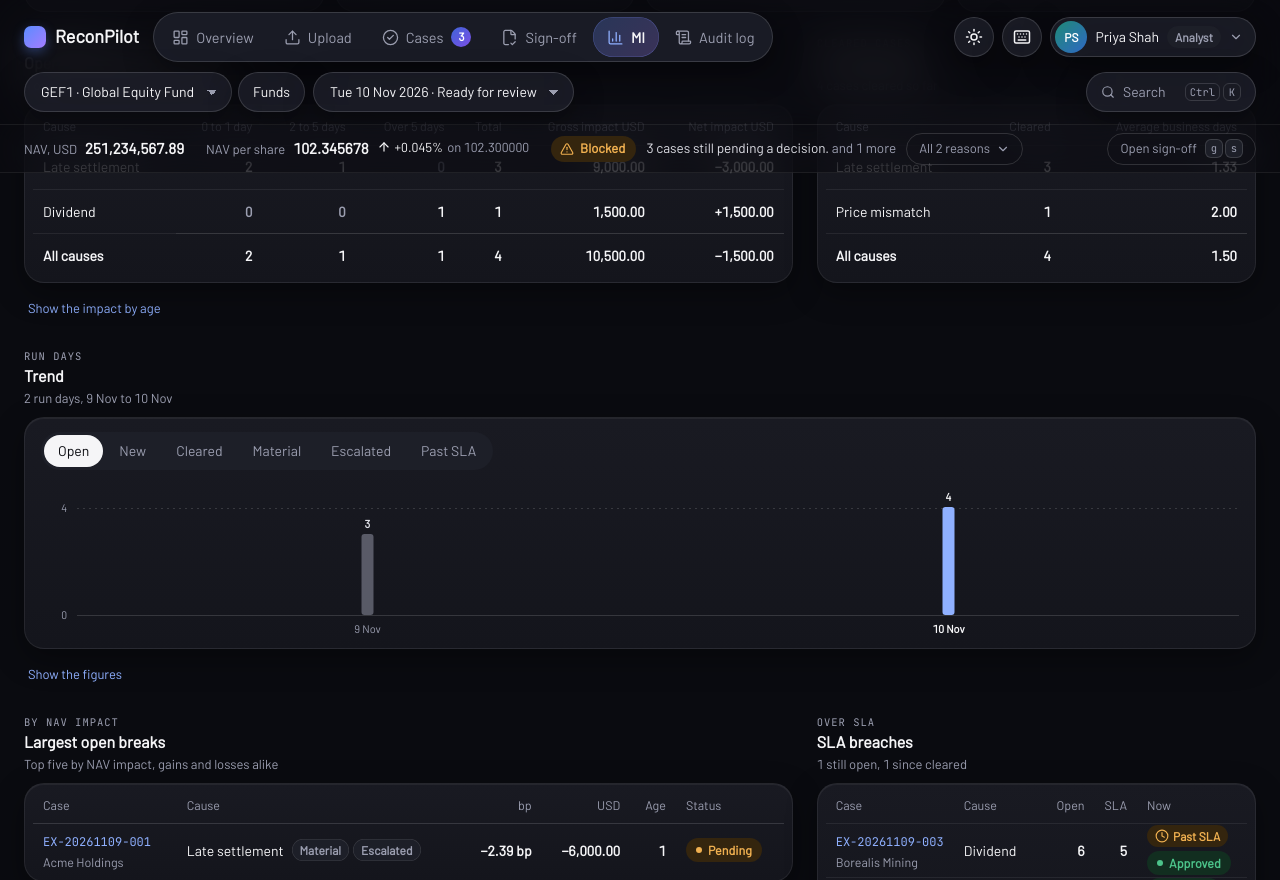
Scenario: MiScreen › switches the trend between measures, keeping every figure behind an expander
(page scrolled)
Expected: the text "2 run days, 9 Nov to 10 Nov" is shown, 24,390 -> 172,406
Expected: the picture named "Open cases per run day, 9 Nov to 10 Nov" is shown, 41,484 -> 1239,638
Click the button "Cleared" at (199, 450), box 162,434 -> 237,466
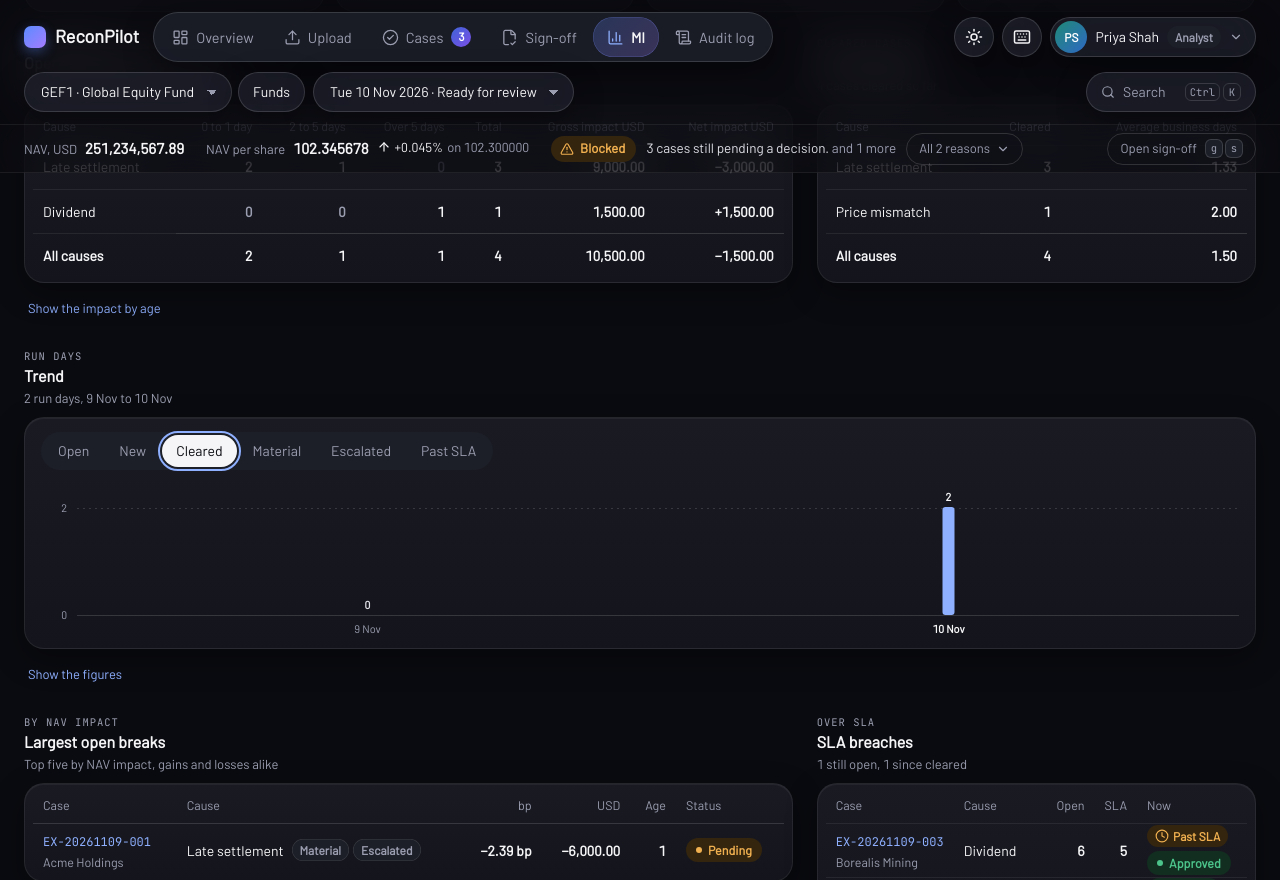
Now the picture named "Cleared cases per run day, 9 Nov to 10 Nov" is shown, box 41,484 -> 1239,638
